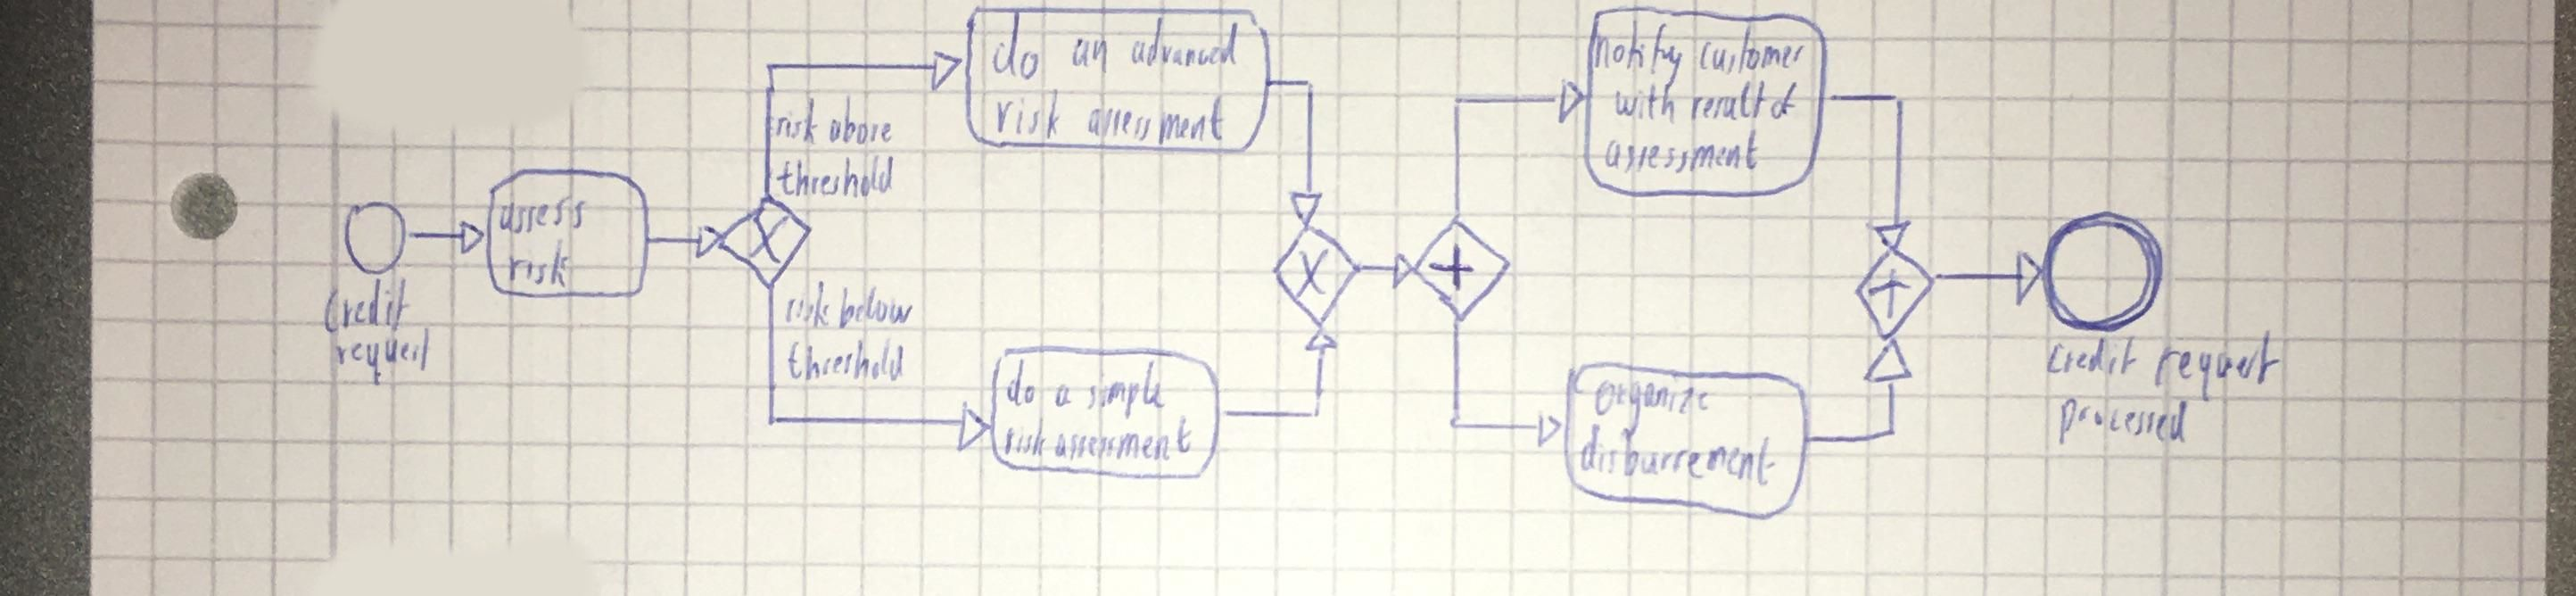Credit: (319, 274, 414, 335)
a: (1053, 381, 1074, 412)
above: (826, 92, 895, 148)
advanced: (1127, 15, 1242, 71)
an: (1068, 33, 1112, 77)
assess: (496, 190, 590, 238)
assessment: (1602, 126, 1763, 177), (1084, 94, 1227, 146), (1051, 414, 1196, 463)
below: (836, 284, 917, 332)
credit: (2044, 333, 2141, 378)
customer: (1695, 23, 1809, 77)
disburrement: (1576, 419, 1781, 491)
do: (991, 13, 1042, 84), (1004, 355, 1037, 410)
notify: (1592, 21, 1686, 89)
of: (1768, 79, 1801, 123)
organize: (1590, 368, 1713, 440)
processed: (2055, 396, 2192, 450)
request: (2150, 327, 2282, 406), (334, 325, 432, 389)
result: (1689, 79, 1769, 123)
risk: (992, 87, 1065, 141), (506, 238, 577, 289), (782, 279, 833, 332), (772, 95, 821, 148), (1000, 415, 1053, 461)
simple: (1083, 356, 1170, 422)
threshold: (784, 337, 907, 384), (774, 153, 897, 200)
with: (1613, 80, 1677, 128)
